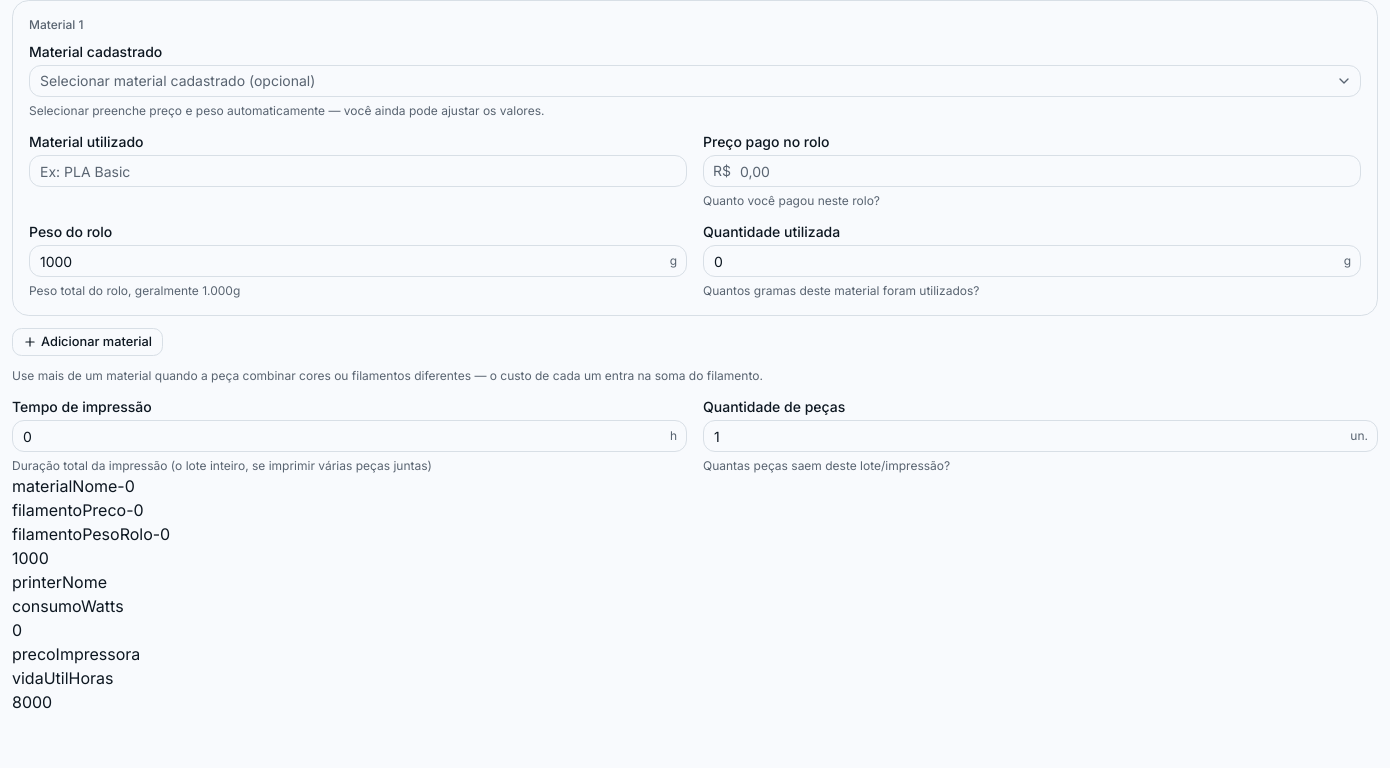
Test: Integração calculadora ↔ cadastros › dados editados no cadastro de materiais chegam à calculadora sem duplicar a fonte de dados
The image size is (1390, 768).
Click the dropdown labelled "material cadastrado" at (178, 80), box 29,65 -> 1361,97
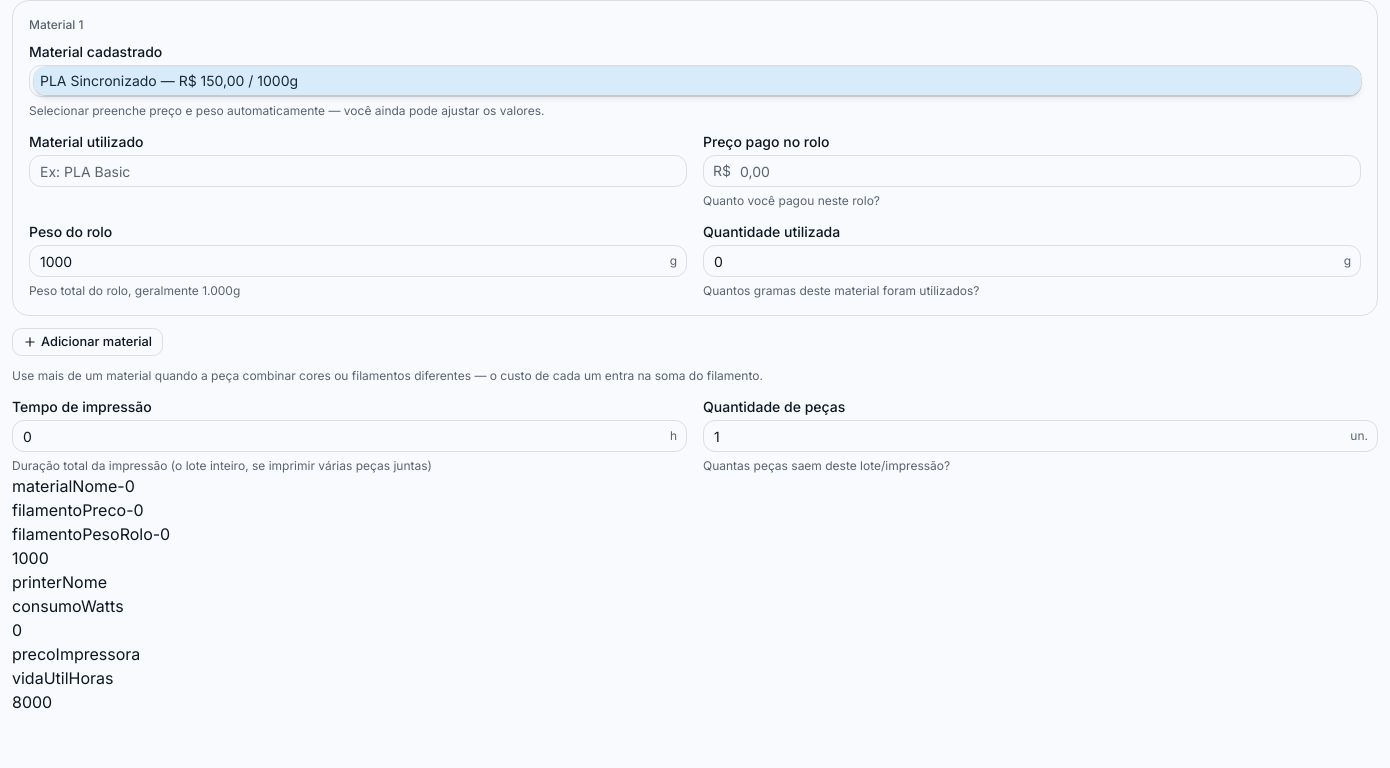
Click the option "PLA Sincronizado — R$ 150,00 / 1000g" at (98, 80), box 34,67 -> 1361,95
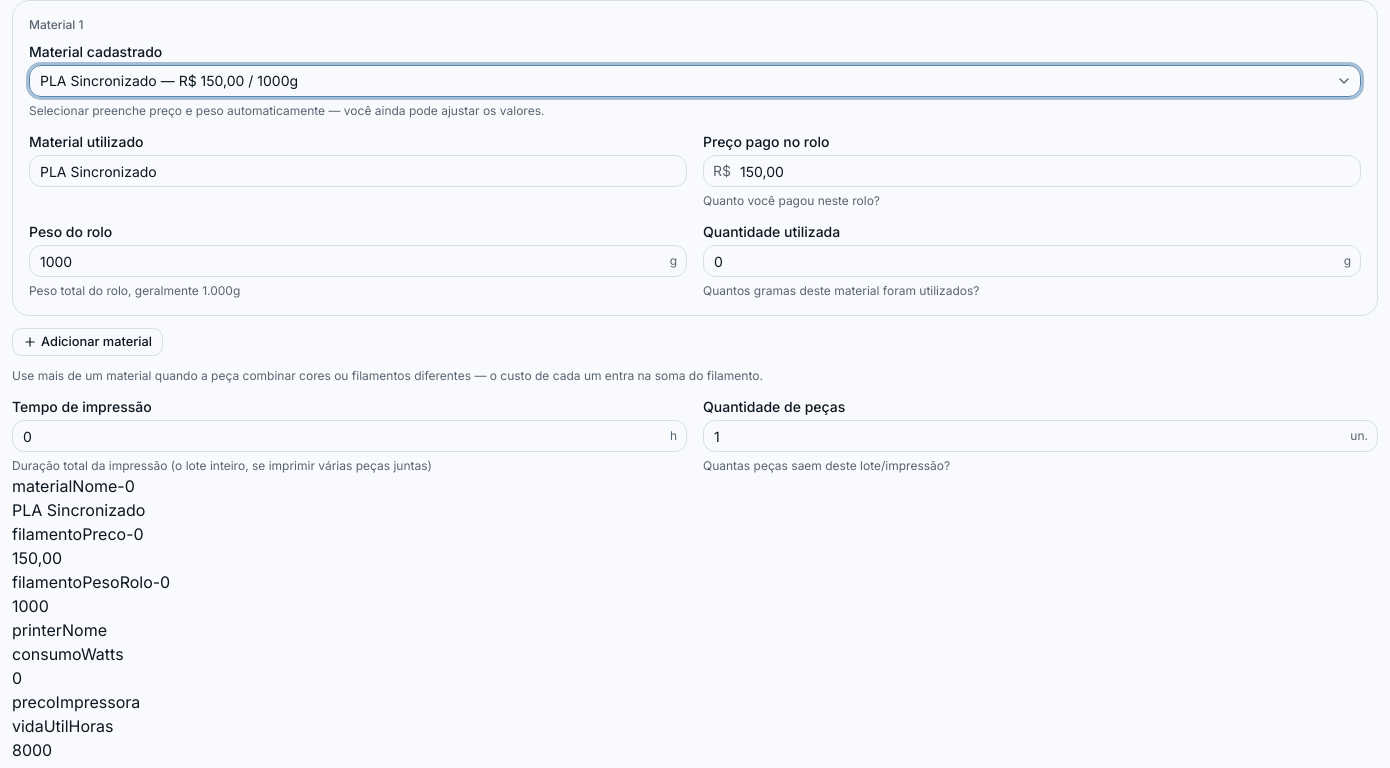
Expected: the text with test id "filamentoPreco-0" reads "150,00", 12,548 -> 62,568
